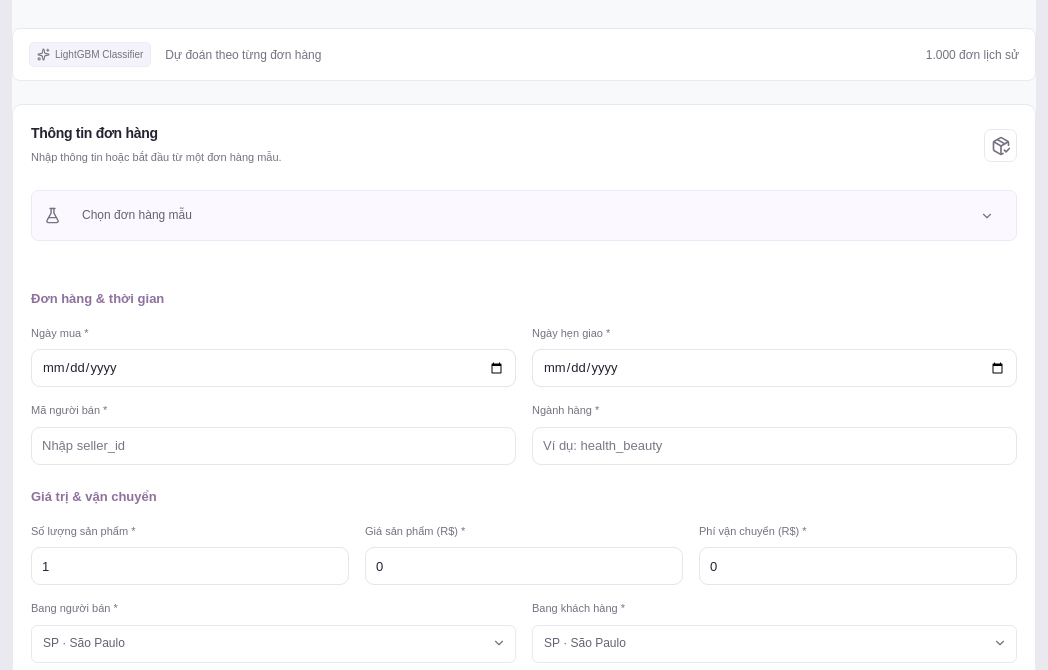
Test case: Delivery Risk › prevents invalid delivery windows from reaching the model
Select "Mẫu 1 · Health Beauty · SP" in the dropdown named "Tải đơn hàng mẫu": (538, 216) 71,201 -> 1004,230
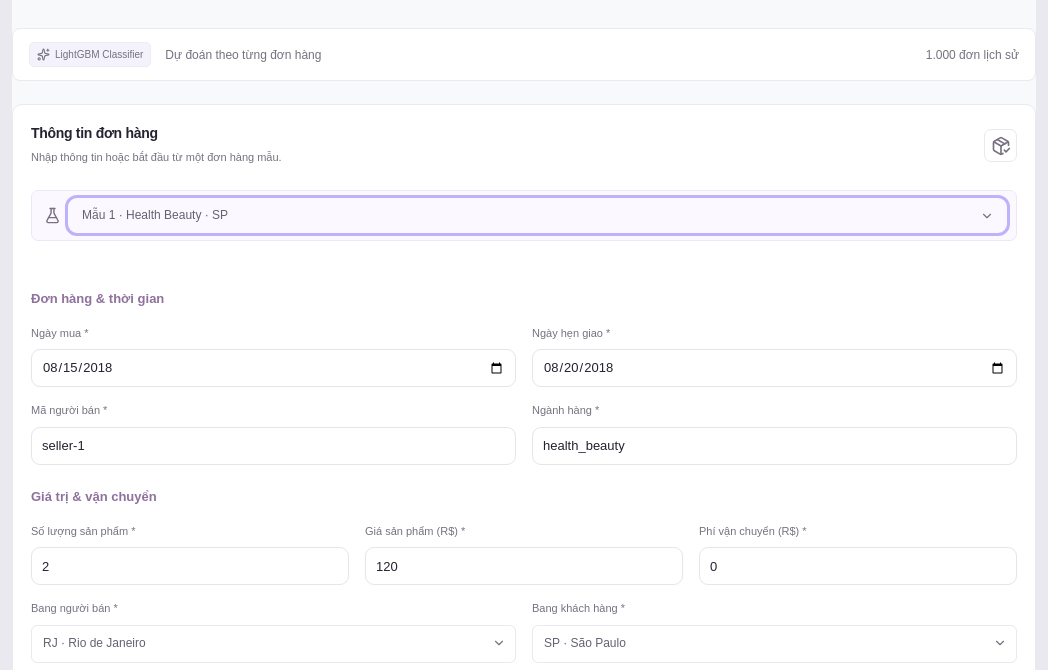
In the date field labelled "Ngày hẹn giao *": (774, 368) 532,349 -> 1017,387, type "2018-08-01"
(page scrolled)
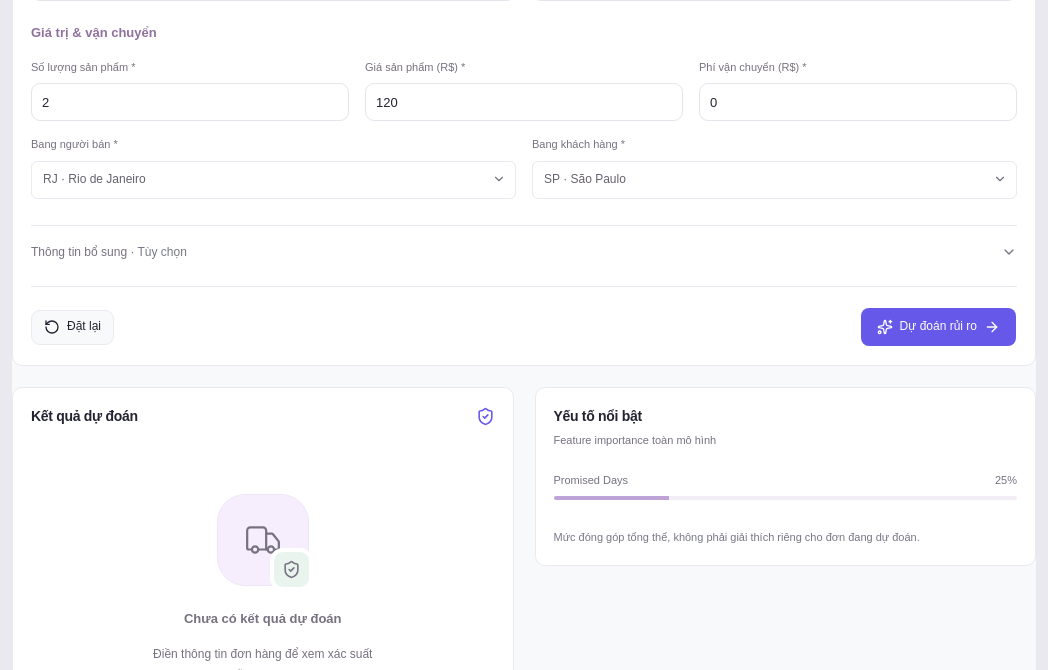
Click the button "Dự đoán rủi ro": (938, 327) 860,307 -> 1017,347
(page scrolled)
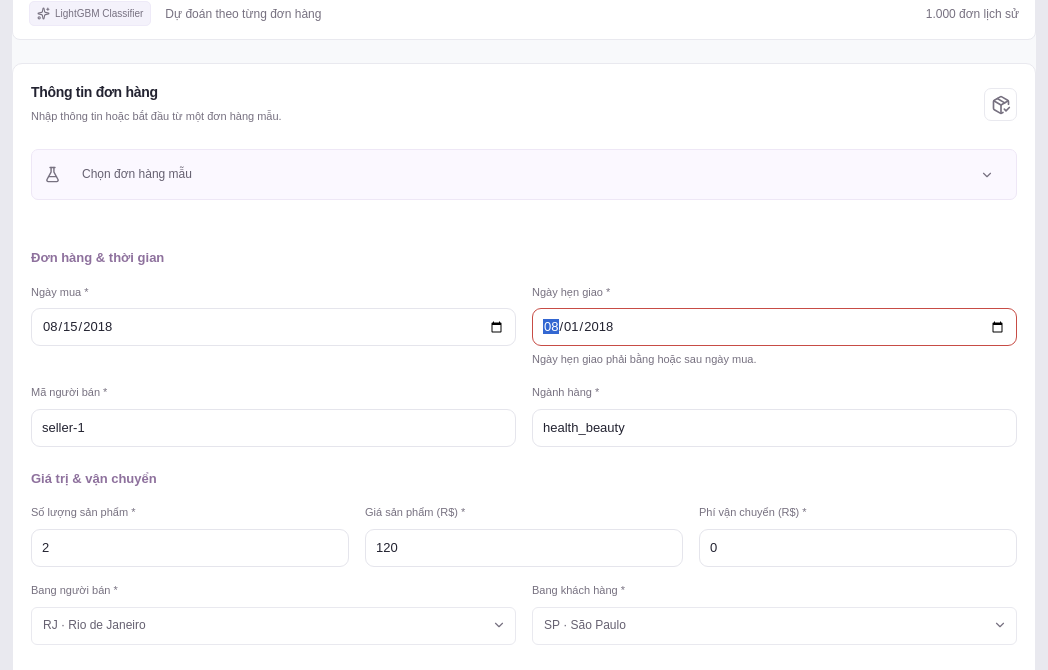
Expected: the text "Ngày hẹn giao phải bằng hoặc sau ngày mua." is shown, 532,353 -> 756,365
